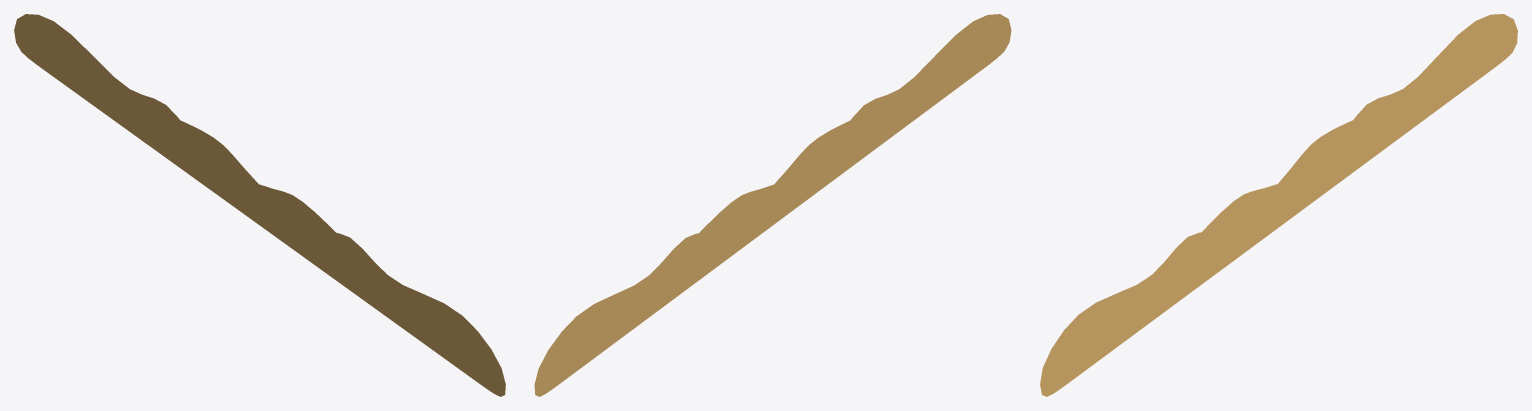
File: decierto 3.fbx
3 renders of one model, left to right at view 1: azimuth 30°, elevation 25°; view 2: azimuth 150°, elevation 25°; view 3: azimuth 330°, elevation 25°, orthographic.
Parts seen in each view (by area): view 1: Decierto 3; view 2: Decierto 3; view 3: Decierto 3.
Boxes of the visible parts, x1=… form: Decierto 3: x1=14, y1=14, x2=505, y2=396; Decierto 3: x1=534, y1=14, x2=1011, y2=396; Decierto 3: x1=1040, y1=14, x2=1517, y2=396.
Size of the model in its own units: 21.23 by 167 by 2480.
